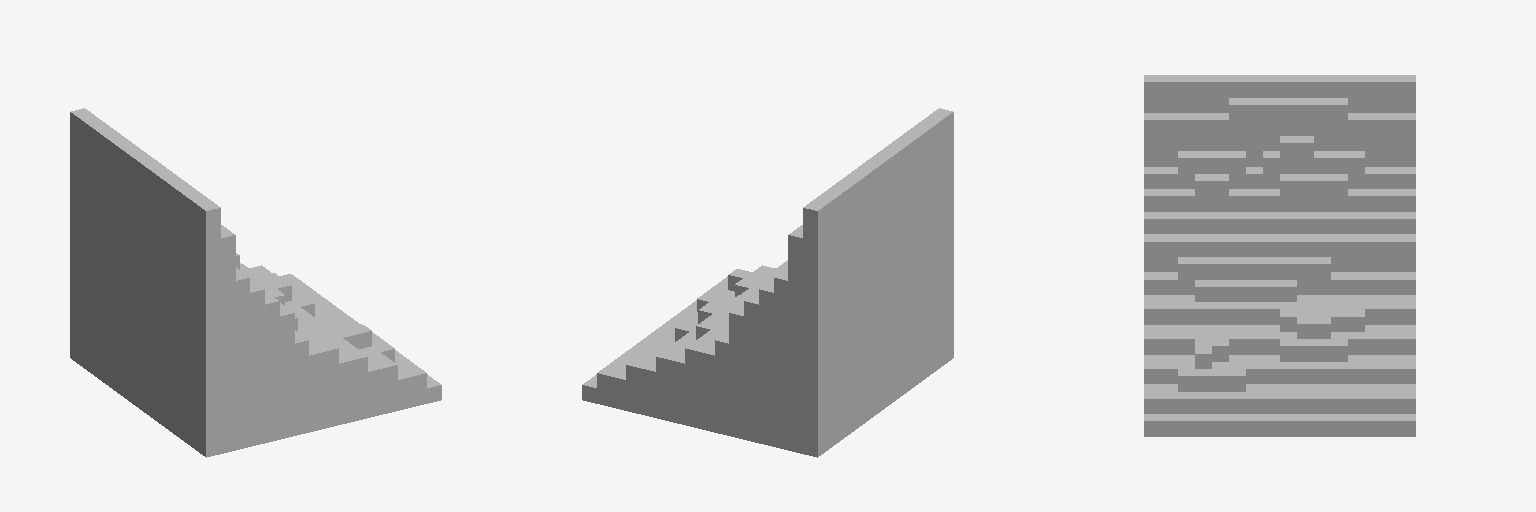
The model's file is civ_slope_4.obj.
3 views of the same model, side by side, from view 1: azimuth 30°, elevation 25°; view 2: azimuth 150°, elevation 25°; view 3: azimuth 270°, elevation 25° (orthographic).
Parts seen in each view (by area): view 1: grassyslope.001; view 2: grassyslope.001; view 3: grassyslope.001.
Part boxes in pixels (left/top/right/bottom): grassyslope.001: left=70, top=108, right=441, bottom=457; grassyslope.001: left=582, top=108, right=953, bottom=457; grassyslope.001: left=1144, top=75, right=1415, bottom=436.
Bounding box in the file's own units: 1 × 1 × 1.